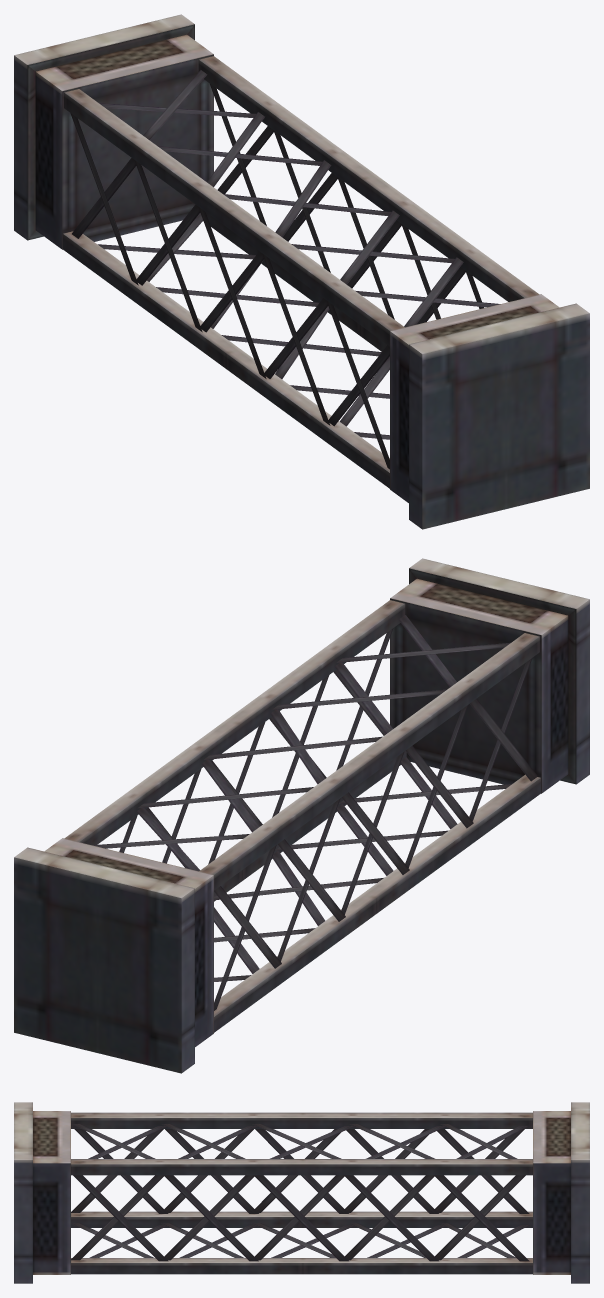
File: zc_lekesigang_tiejia01.FBX
3 renders of one model, top to bottom at view 1: azimuth 30°, elevation 25°; view 2: azimuth 150°, elevation 25°; view 3: azimuth 270°, elevation 25°, orthographic. The views are drawn at different scales.
Parts seen in each view (by area): view 1: zc_lekesigang_tiejia01; view 2: zc_lekesigang_tiejia01; view 3: zc_lekesigang_tiejia01.
Part boxes in pixels (x1,y1,x2,y2): zc_lekesigang_tiejia01: (14,14,589,529); zc_lekesigang_tiejia01: (14,558,589,1073); zc_lekesigang_tiejia01: (14,1102,589,1283).
Bounding box in the file's own units: 189 × 189 × 798.
